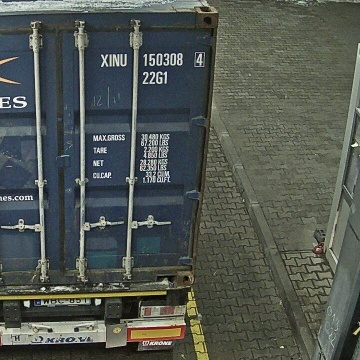serial_id: (101, 53, 203, 66)
